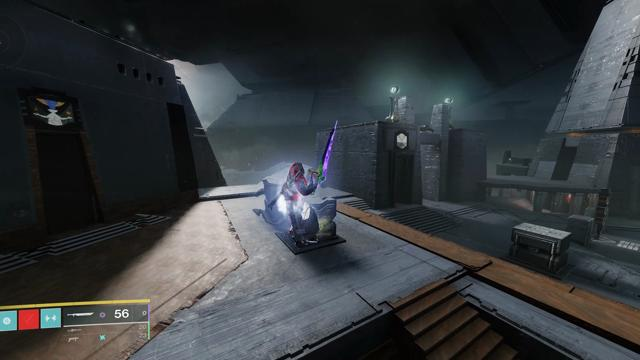commune: (397, 133, 407, 149)
drink: (27, 93, 74, 127)
kill: (565, 193, 572, 204)
